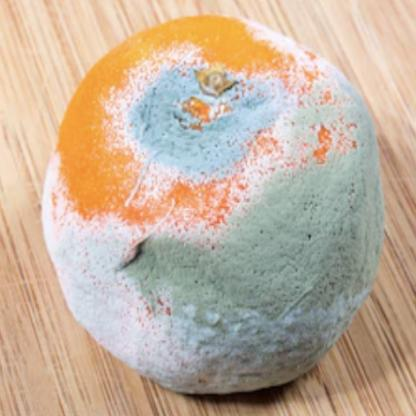rotten: (44, 19, 382, 396)
